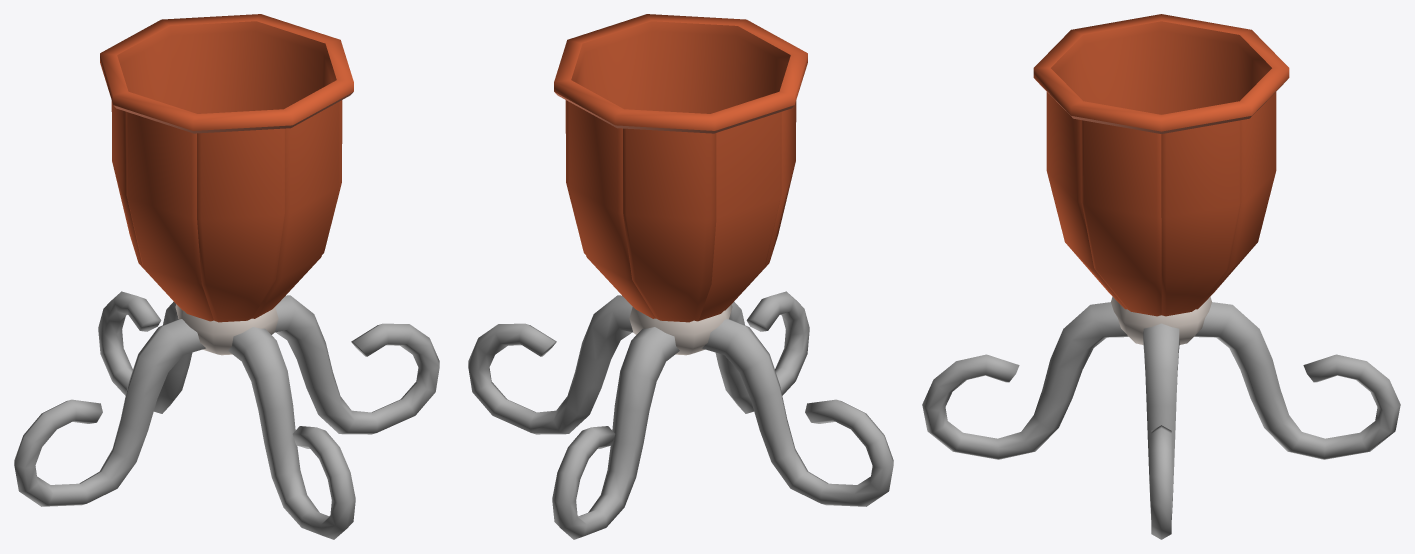
The model's file is FancyVase.fbx.
The picture shows the model from 3 angles, left to right: view 1: azimuth 30°, elevation 25°; view 2: azimuth 150°, elevation 25°; view 3: azimuth 270°, elevation 25°; orthographic projection. The views are drawn at different scales.
Visible parts, largest first — view 1: FancyVase; view 2: FancyVase; view 3: FancyVase.
Part boxes in pixels (bbox=[...]): FancyVase: bbox=[14, 14, 439, 539]; FancyVase: bbox=[468, 14, 893, 539]; FancyVase: bbox=[922, 14, 1400, 539].
Size of the model in its own units: 0.8172 by 0.7382 by 0.8172.
